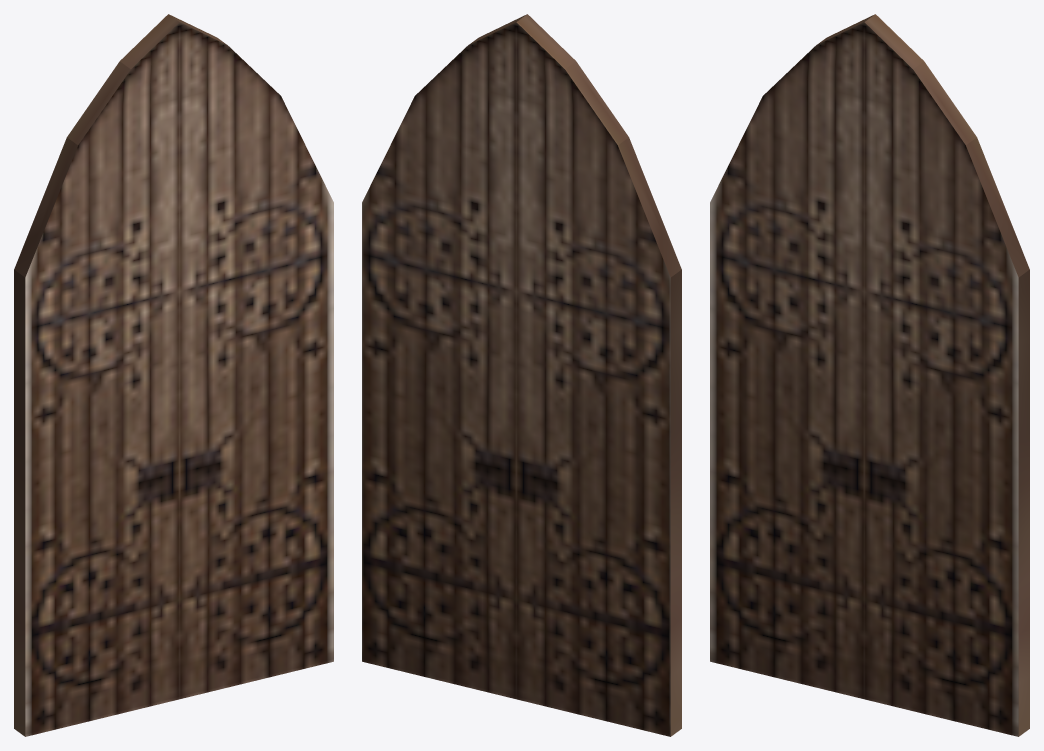
Rendered from Door1.fbx.
3 renders of one model, left to right at view 1: azimuth 30°, elevation 25°; view 2: azimuth 150°, elevation 25°; view 3: azimuth 330°, elevation 25°, orthographic.
Visible parts, largest first — view 1: Plane; view 2: Plane; view 3: Plane.
Part boxes in pixels (x1=…): Plane: x1=14, y1=14, x2=333, y2=736; Plane: x1=362, y1=14, x2=681, y2=736; Plane: x1=710, y1=14, x2=1029, y2=736.
Bounding box in the file's own units: 163 × 343 × 10.27.
Materials: 1 (1 with a texture image).
